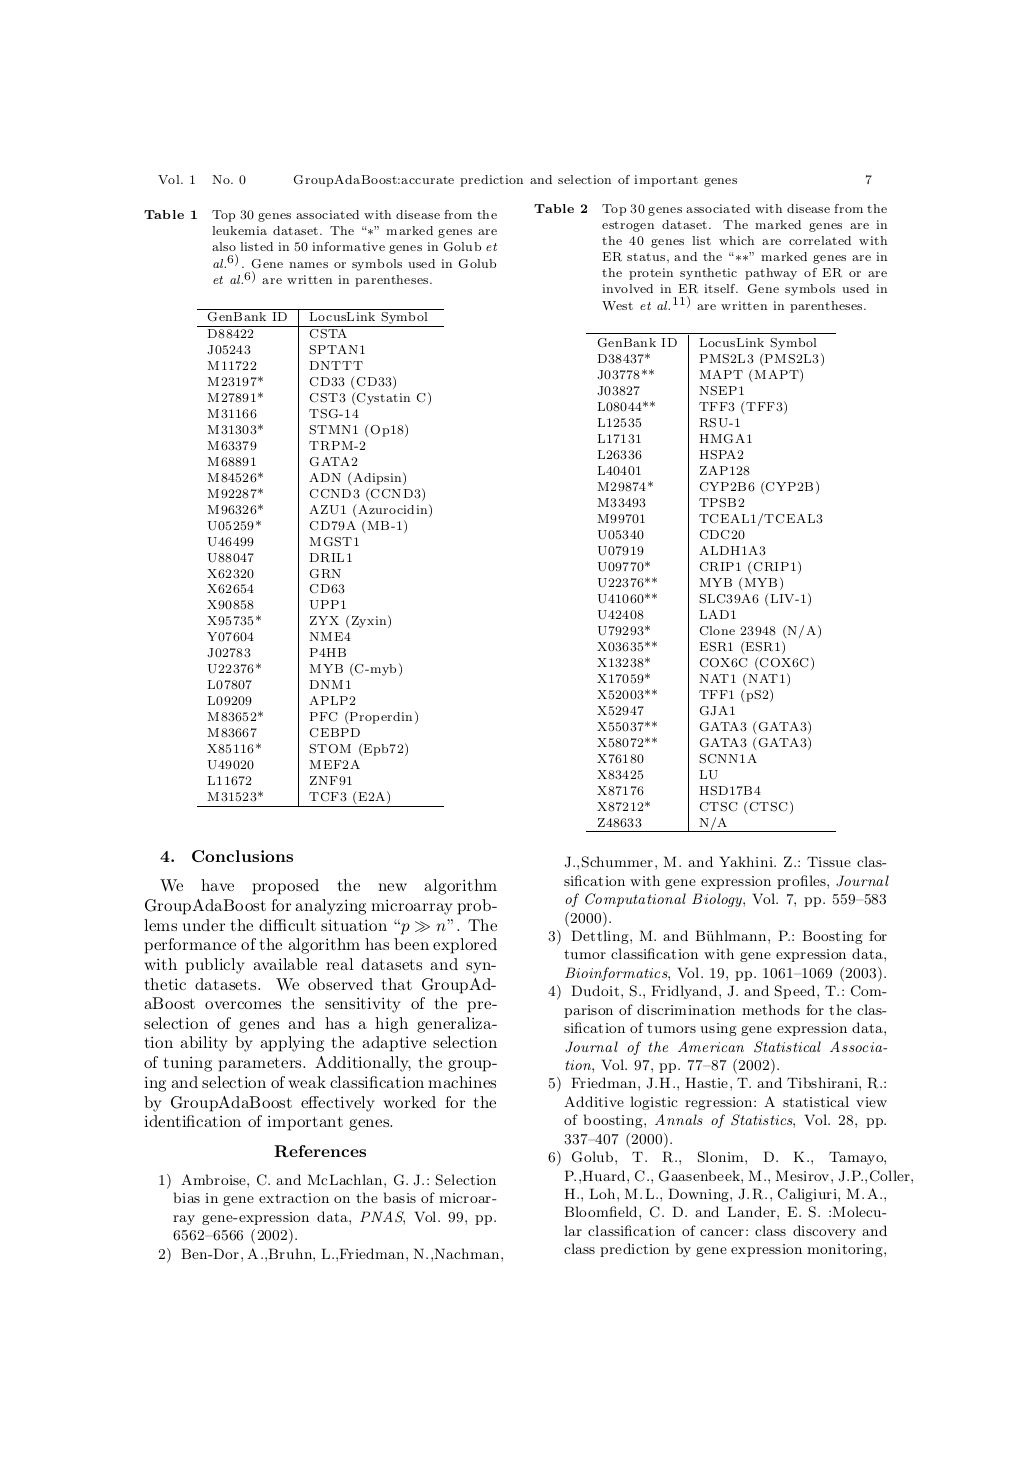Table: (586, 332, 835, 832), (197, 308, 443, 806)
